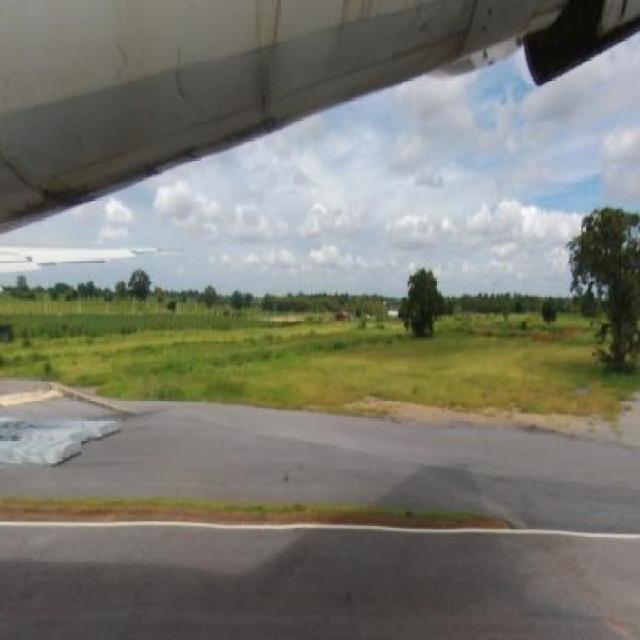Rust: (330, 0, 477, 95), (22, 148, 186, 223), (105, 33, 210, 138), (236, 1, 299, 147)
